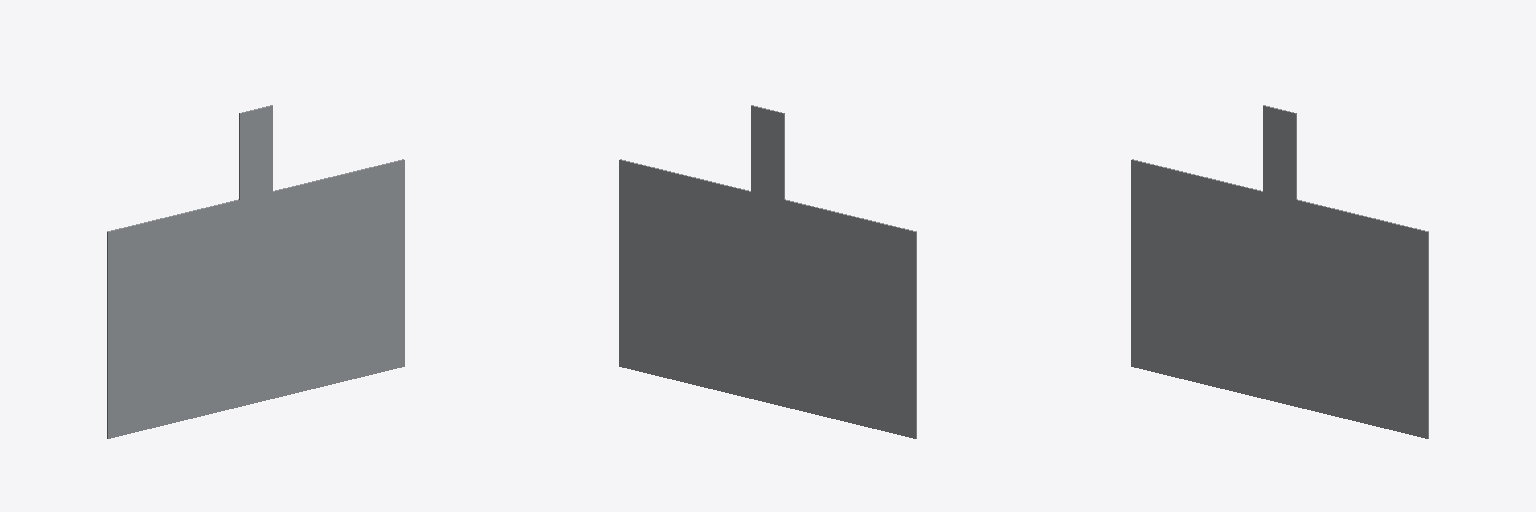
File: machineglass.obj
3 views of the same model, side by side, from view 1: azimuth 30°, elevation 25°; view 2: azimuth 150°, elevation 25°; view 3: azimuth 330°, elevation 25° (orthographic).
Bounding box in the file's own units: 9 × 8.5 × 0.05.